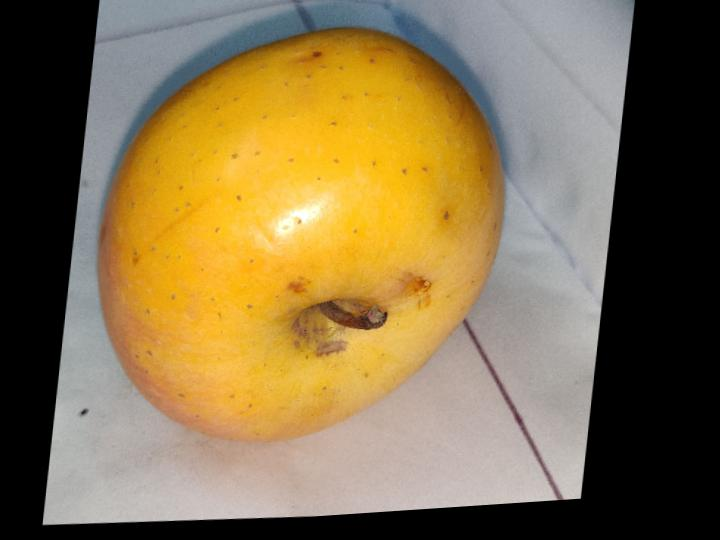apple: (98, 28, 502, 440)
surface_damage: (397, 276, 430, 298), (291, 315, 310, 348), (315, 340, 346, 355), (286, 281, 305, 294), (312, 327, 330, 335), (291, 339, 299, 349), (304, 355, 308, 360)
